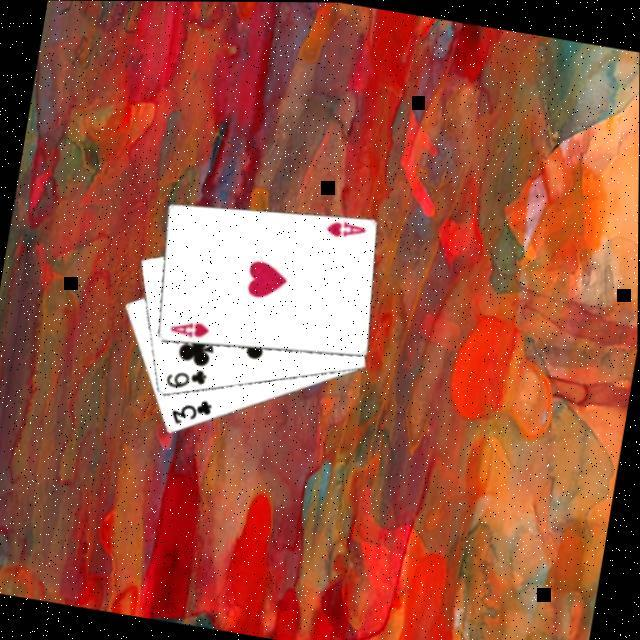3C: (167, 392, 217, 433)
6C: (164, 362, 212, 397)
AH: (323, 216, 370, 245), (166, 316, 214, 344)
